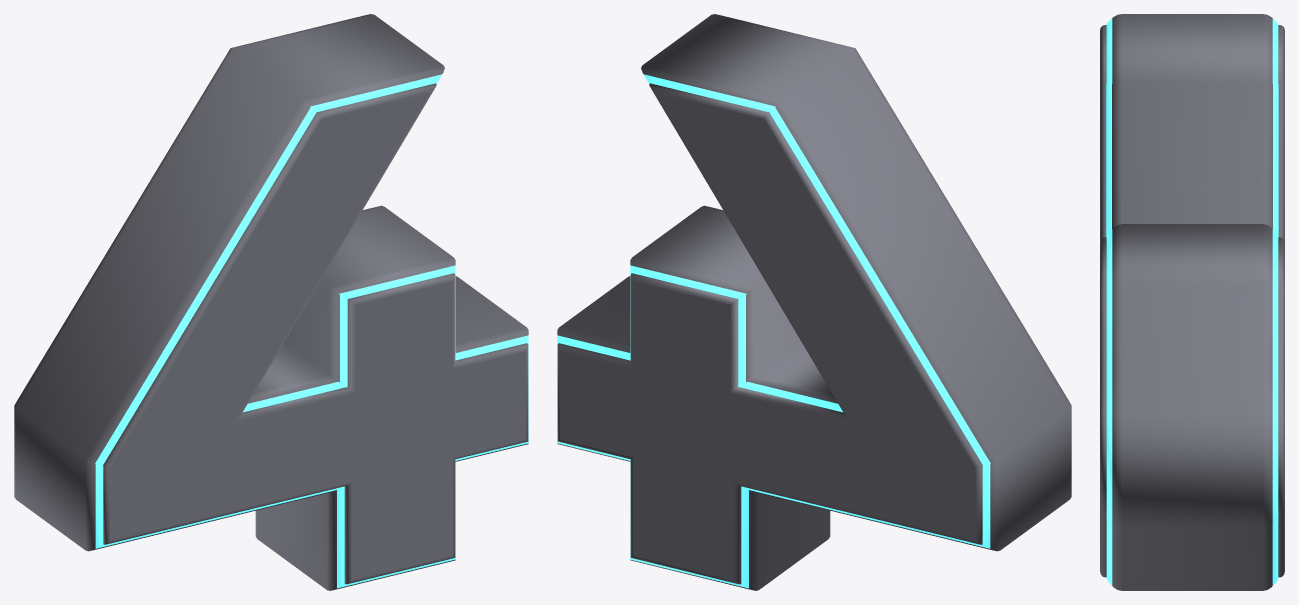
3 renders of one model, left to right at view 1: azimuth 30°, elevation 25°; view 2: azimuth 150°, elevation 25°; view 3: azimuth 270°, elevation 25°, orthographic.
Parts seen in each view (by area): view 1: N_4_smaller, N_4_side, N_4_border; view 2: N_4_smaller, N_4_side, N_4_border; view 3: N_4_side, N_4_smaller, N_4_border.
Boxes of the visible parts, x1,y1,x2,y2 form: N_4_smaller: (17,49,528,584); N_4_side: (14,14,528,590); N_4_border: (95,74,528,588); N_4_smaller: (557,49,1068,584); N_4_side: (557,14,1071,590); N_4_border: (557,74,990,588); N_4_side: (1112,14,1272,590); N_4_smaller: (1100,25,1284,577); N_4_border: (1106,19,1278,584).
Size of the model in its own units: 51.36 by 55.16 by 18.4.
